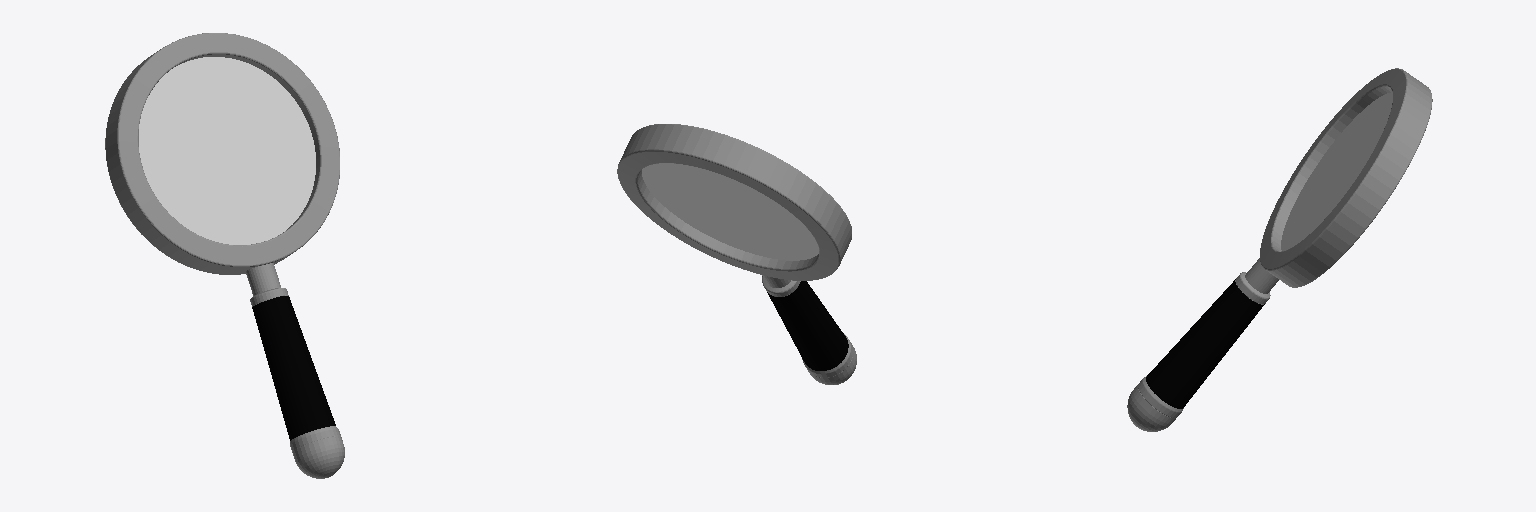
The model's file is hunt.obj.
The picture shows the model from 3 angles: view 1: azimuth 30°, elevation 25°; view 2: azimuth 150°, elevation 25°; view 3: azimuth 270°, elevation 25°; orthographic projection.
Parts seen in each view (by area): view 1: Magnifying_Glass; view 2: Magnifying_Glass; view 3: Magnifying_Glass.
Boxes of the visible parts, x1,y1,x2,y2 form: Magnifying_Glass: [105, 33, 344, 478]; Magnifying_Glass: [617, 124, 856, 384]; Magnifying_Glass: [1127, 68, 1432, 431].
Size of the model in its own units: 0.2747 by 0.4331 by 0.3448.